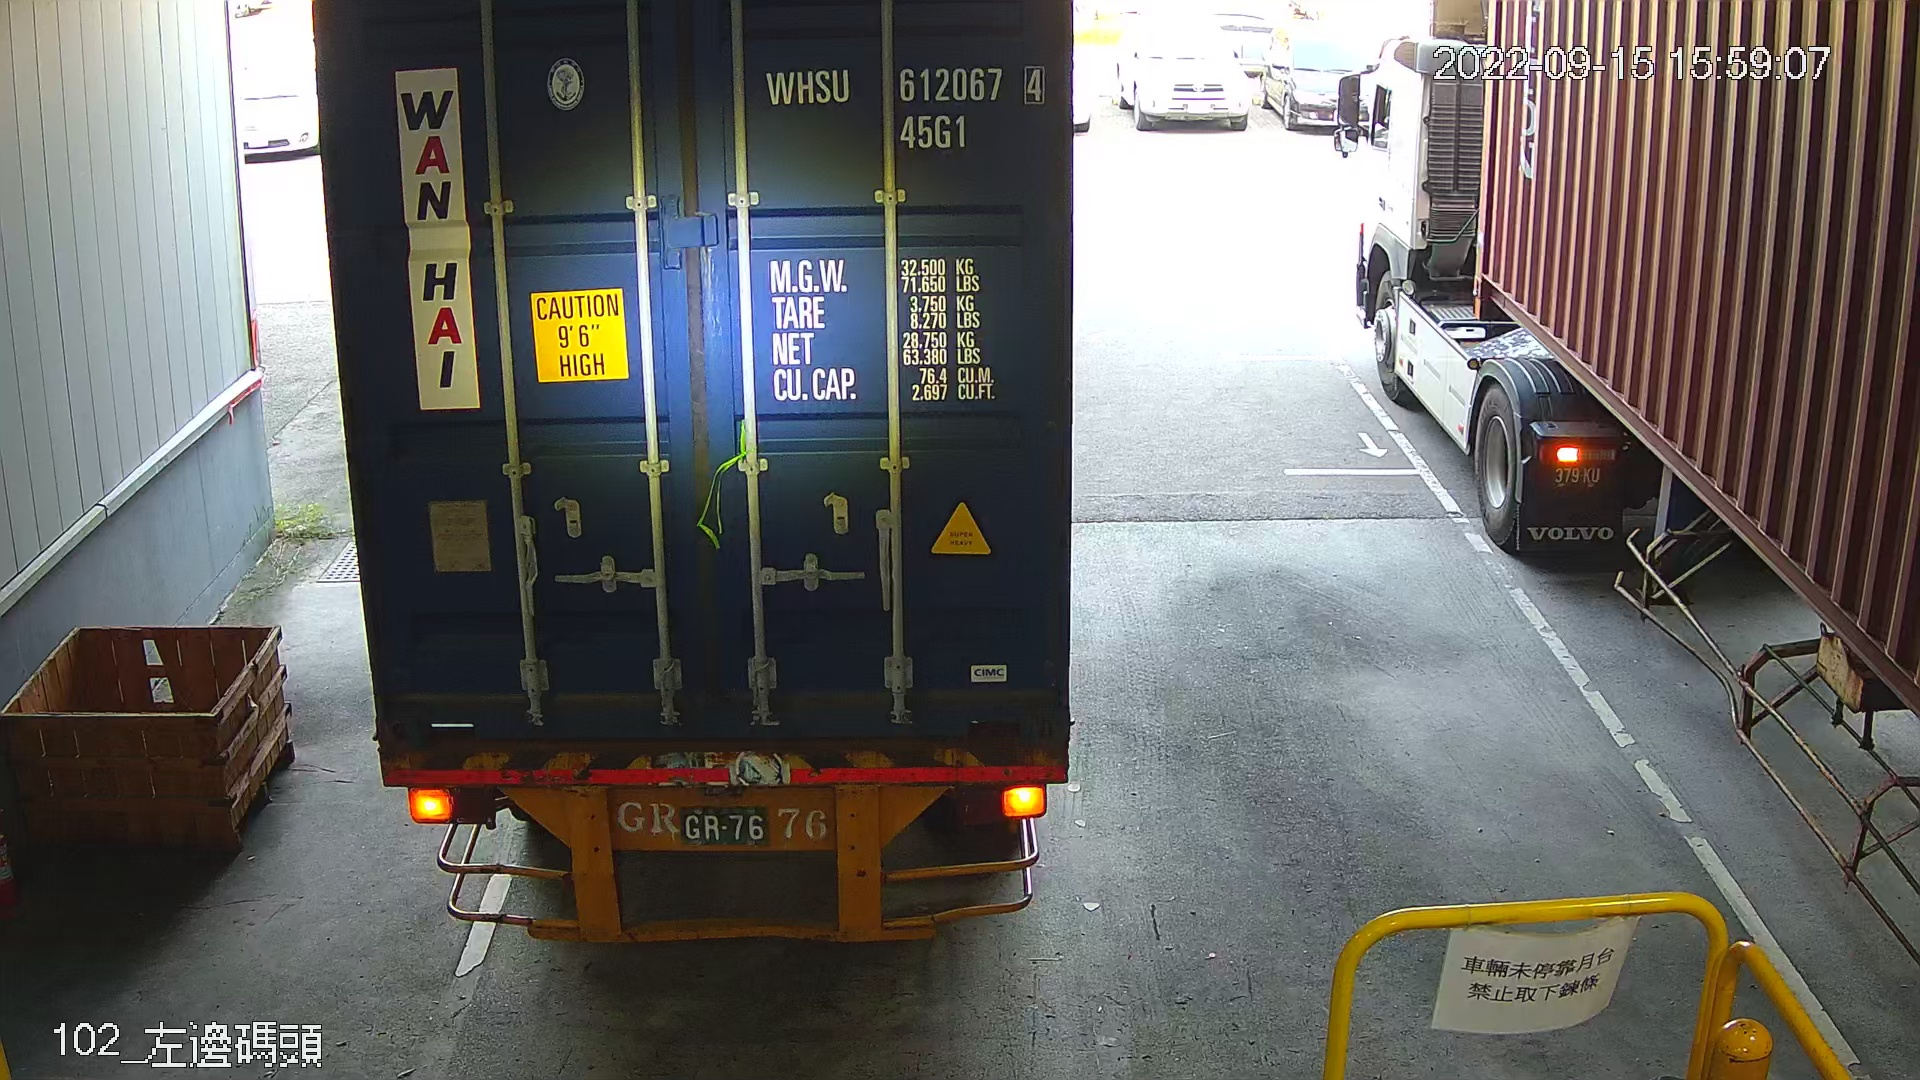container: (754, 54, 1056, 160)
